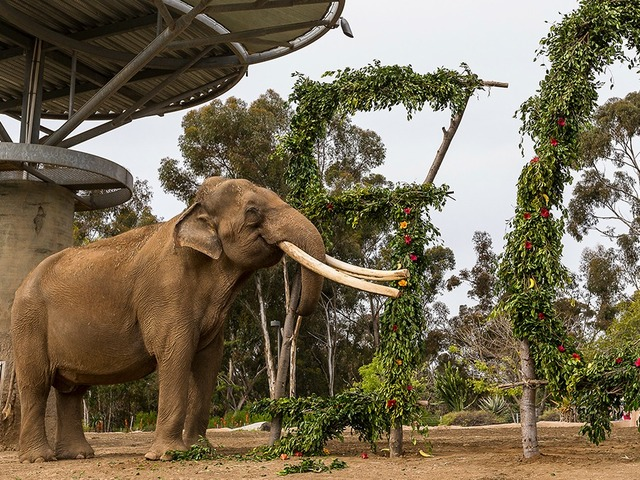elephant: (8, 169, 426, 469)
